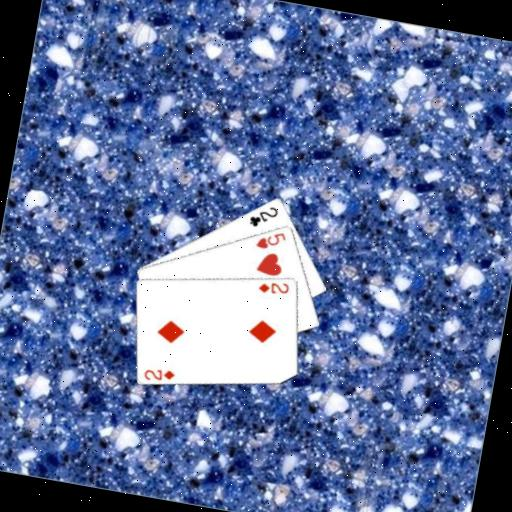2C: (245, 200, 281, 232)
2D: (255, 274, 292, 298), (140, 362, 177, 386)
5H: (252, 224, 288, 253)
